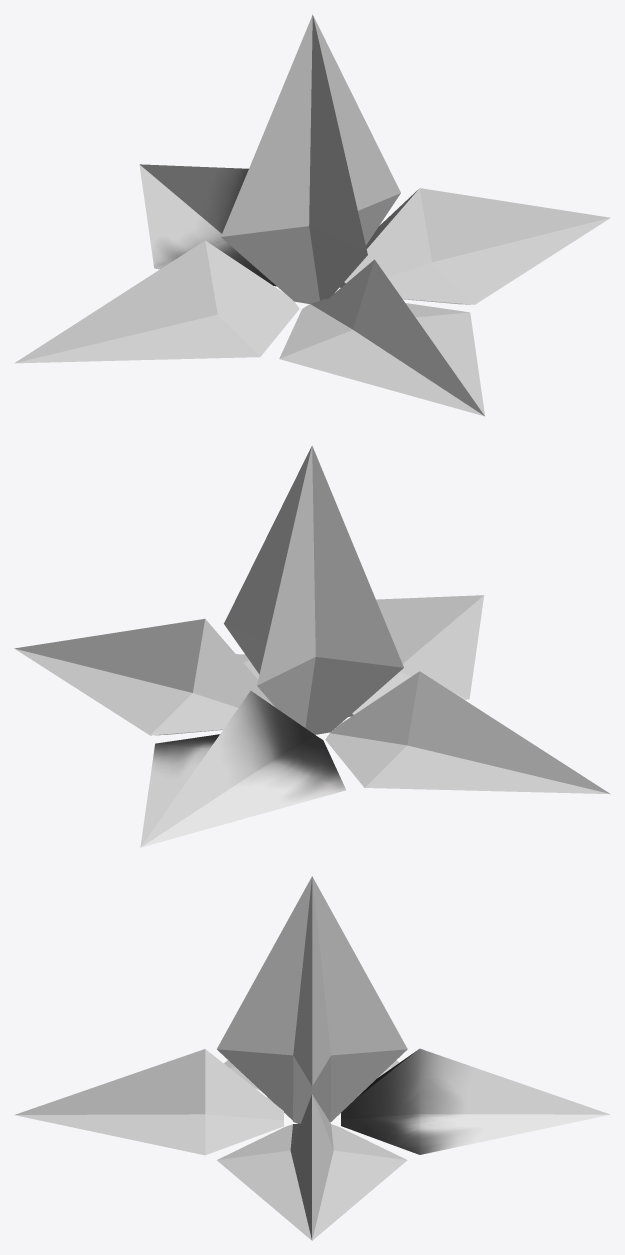
File: Spikes.fbx
3 views of the same model, one above another, from view 1: azimuth 30°, elevation 25°; view 2: azimuth 150°, elevation 25°; view 3: azimuth 270°, elevation 25° (orthographic). The views are drawn at different scales.
Visible parts, largest first — view 1: TopSpike, Spike, Spike2, Spike3, Spike4; view 2: TopSpike, Spike, Spike4, Spike2, Spike3; view 3: TopSpike, Spike4, Spike3, Spike2.
Boxes of the visible parts, left/top/right/bottom form: TopSpike: left=221, top=15, right=400, bottom=303; Spike: left=14, top=240, right=299, bottom=363; Spike2: left=340, top=188, right=610, bottom=304; Spike3: left=279, top=259, right=484, bottom=416; Spike4: left=139, top=164, right=276, bottom=286; TopSpike: left=224, top=445, right=403, bottom=734; Spike: left=325, top=671, right=610, bottom=794; Spike4: left=140, top=691, right=345, bottom=847; Spike2: left=14, top=619, right=273, bottom=735; Spike3: left=348, top=595, right=484, bottom=716; TopSpike: left=217, top=876, right=407, bottom=1123; Spike4: left=341, top=1048, right=610, bottom=1154; Spike3: left=14, top=1049, right=283, bottom=1155; Spike2: left=217, top=1094, right=407, bottom=1240.
Size of the model in its own units: 624 by 292 by 625.
